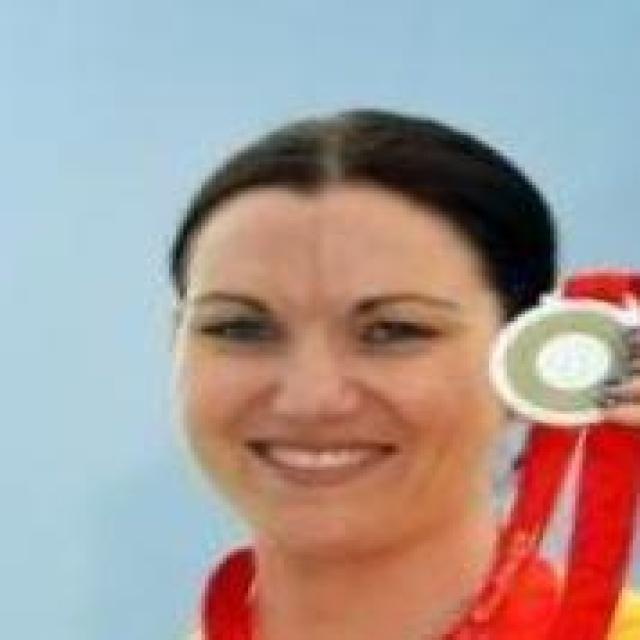bareface: (138, 174, 499, 550)
